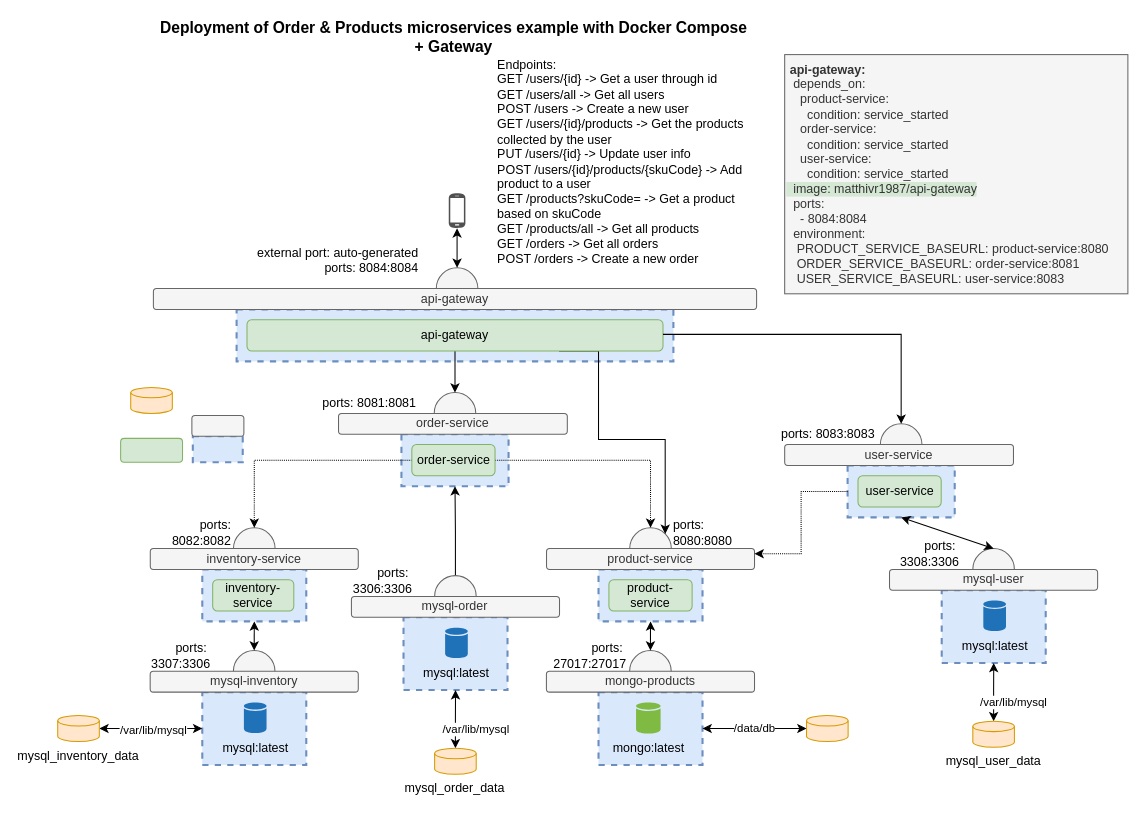
The diagram is 1146 pixels wide and 813 high, and some of its shapes have lost their labels. The centre of each missing label's shape, as x and y in pixels:
container: [151,449]
mongodb_product_data: [826,728]
POD: [217,449]
service: [217,425]
volume: [151,399]
